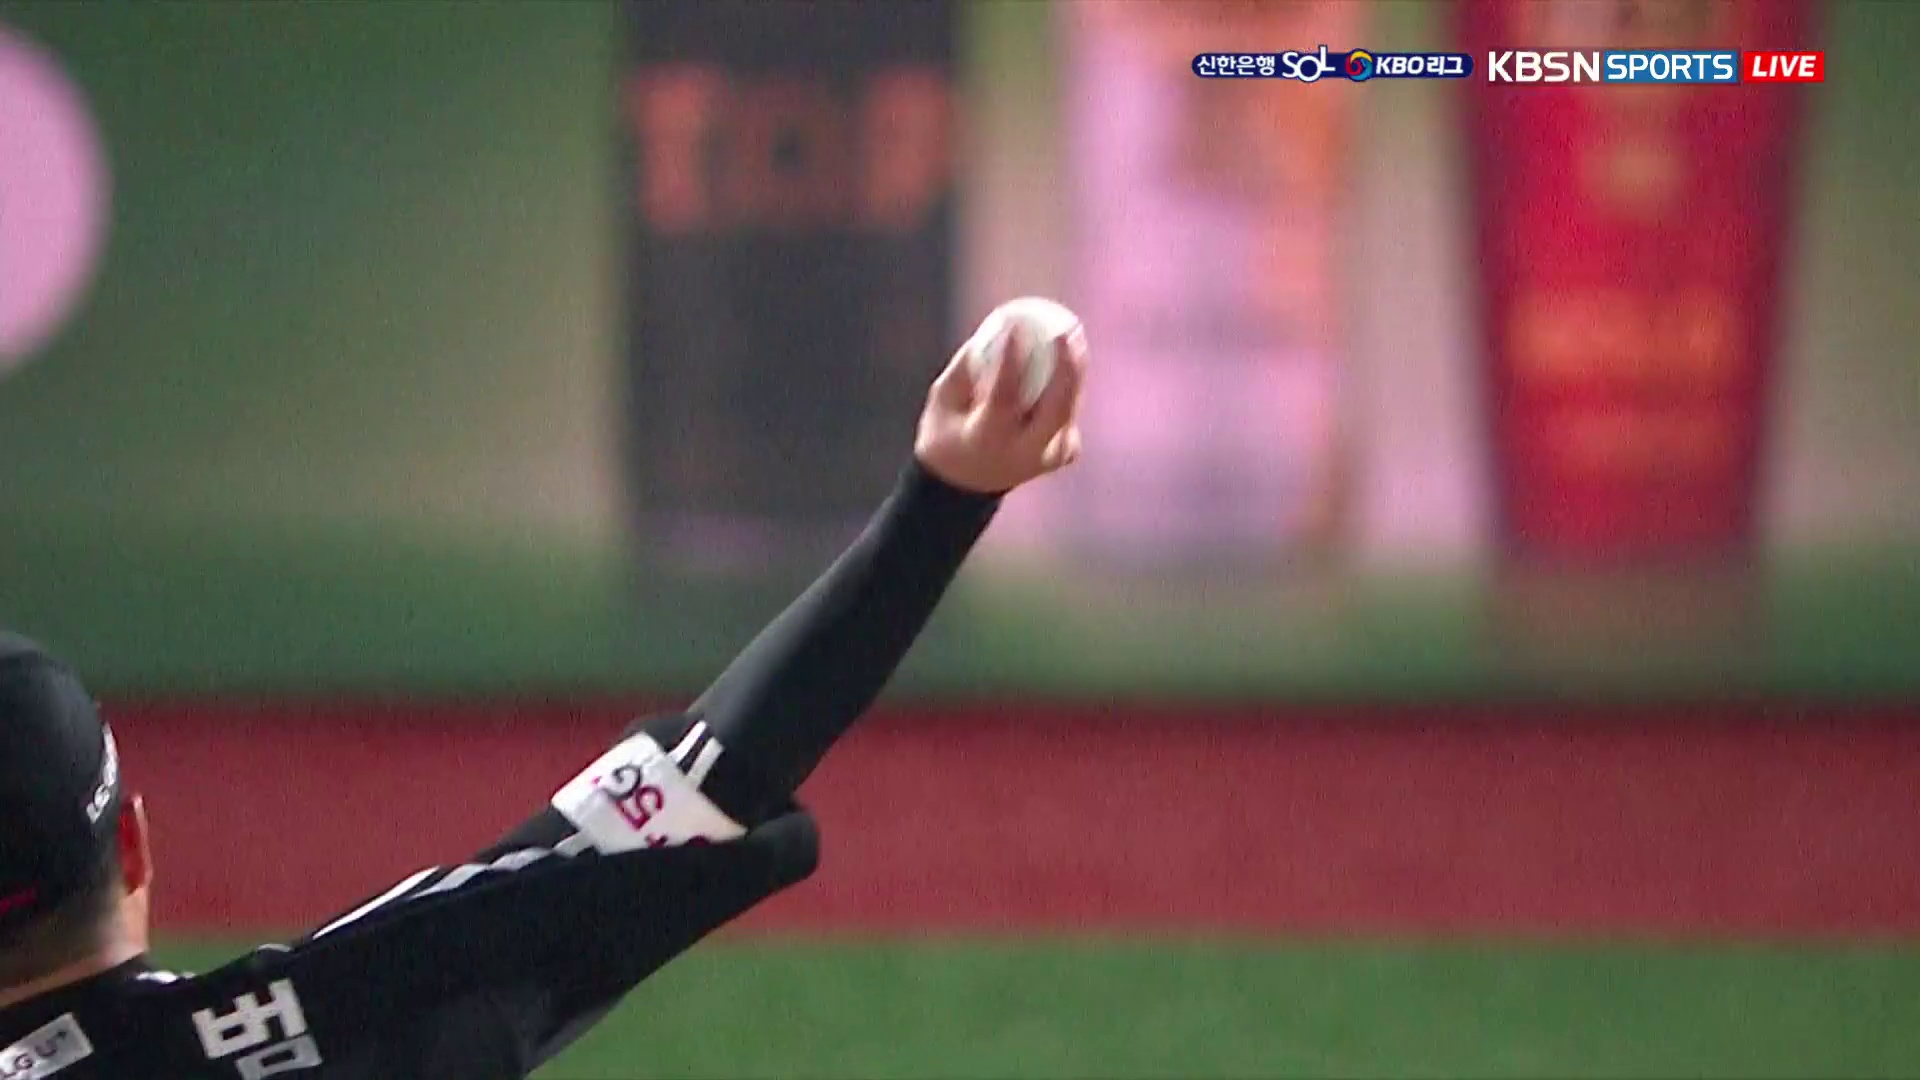zoomin_hand: (605, 291, 1101, 887)
